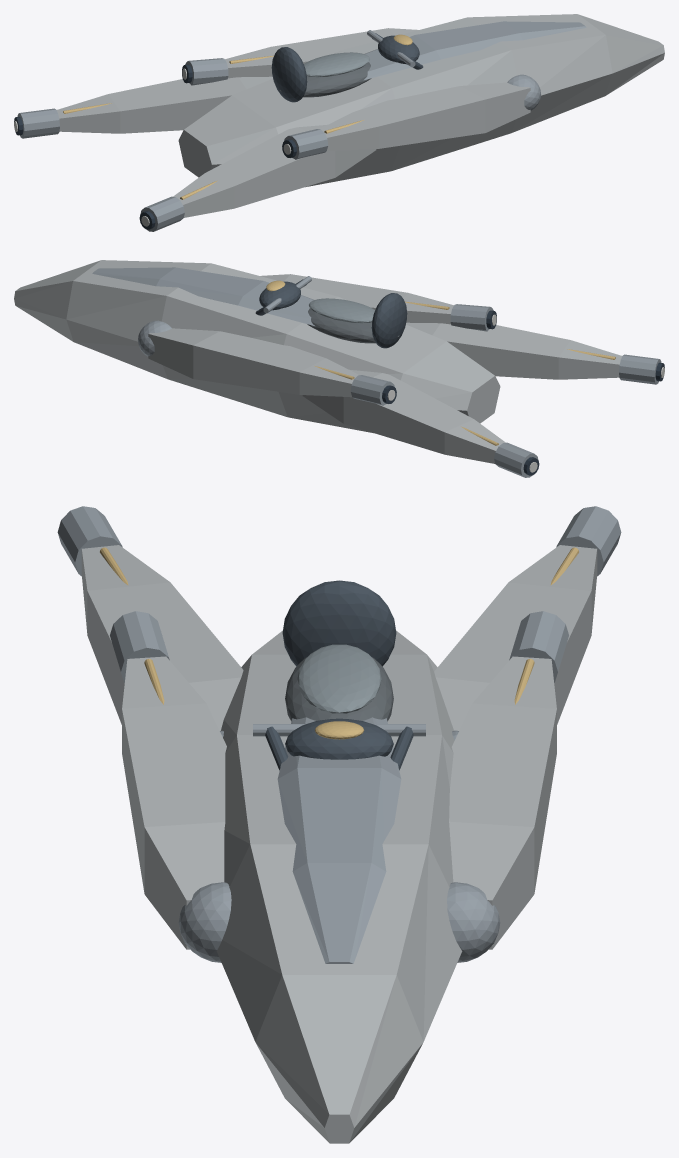
Rendered from busan_pulse_silver_folded.glb.
The picture shows the model from 3 angles, top to bottom: view 1: azimuth 30°, elevation 25°; view 2: azimuth 150°, elevation 25°; view 3: azimuth 270°, elevation 25°; orthographic projection. The views are drawn at different scales.
Parts seen in each view (by area): view 1: center_hull_0, rear_wings_7, front_wings_12, central_panel_1, wing_tip_turbine_8, seat_back_3, saddle_pad_13, saddle_2, instrument_cluster_14, wing_tip_nozzle_9, wing_hinges_6, wing_accents_11; view 2: center_hull_0, rear_wings_7, front_wings_12, central_panel_1, wing_tip_turbine_8, seat_back_3, saddle_pad_13, saddle_2, instrument_cluster_14, wing_tip_nozzle_9, wing_hinges_6, wing_accents_11; view 3: center_hull_0, front_wings_12, rear_wings_7, central_panel_1, wing_tip_turbine_8, seat_back_3, wing_hinges_6, saddle_pad_13, instrument_cluster_14, saddle_2, wing_accents_11, handle_support_5.
Boxes of the visible parts, x1,y1,x2,y2 form: center_hull_0: [178, 14, 664, 187]; rear_wings_7: [56, 76, 376, 217]; front_wings_12: [225, 28, 530, 151]; central_panel_1: [364, 21, 586, 79]; wing_tip_turbine_8: [17, 58, 328, 231]; seat_back_3: [271, 47, 307, 102]; saddle_pad_13: [303, 52, 369, 77]; saddle_2: [279, 62, 371, 97]; instrument_cluster_14: [378, 35, 419, 64]; wing_tip_nozzle_9: [14, 64, 296, 229]; wing_hinges_6: [507, 74, 540, 110]; wing_accents_11: [63, 55, 363, 199]; center_hull_0: [14, 260, 500, 433]; rear_wings_7: [302, 322, 622, 463]; front_wings_12: [148, 274, 453, 397]; central_panel_1: [92, 267, 314, 325]; wing_tip_turbine_8: [350, 304, 661, 477]; seat_back_3: [371, 293, 407, 348]; saddle_pad_13: [309, 298, 375, 323]; saddle_2: [307, 308, 399, 343]; instrument_cluster_14: [259, 281, 300, 310]; wing_tip_nozzle_9: [382, 310, 664, 475]; wing_hinges_6: [138, 320, 171, 356]; wing_accents_11: [315, 301, 615, 445]; center_hull_0: [216, 630, 462, 1143]; front_wings_12: [122, 656, 556, 949]; rear_wings_7: [81, 545, 597, 730]; central_panel_1: [277, 717, 401, 963]; wing_tip_turbine_8: [57, 506, 621, 682]; seat_back_3: [282, 580, 396, 666]; wing_hinges_6: [178, 730, 500, 962]; saddle_pad_13: [297, 644, 381, 713]; instrument_cluster_14: [285, 718, 393, 759]; saddle_2: [285, 657, 393, 721]; wing_accents_11: [100, 547, 578, 704]; handle_support_5: [265, 726, 413, 770].
Size of the model in its own units: 5.43 by 1.1 by 2.28.
